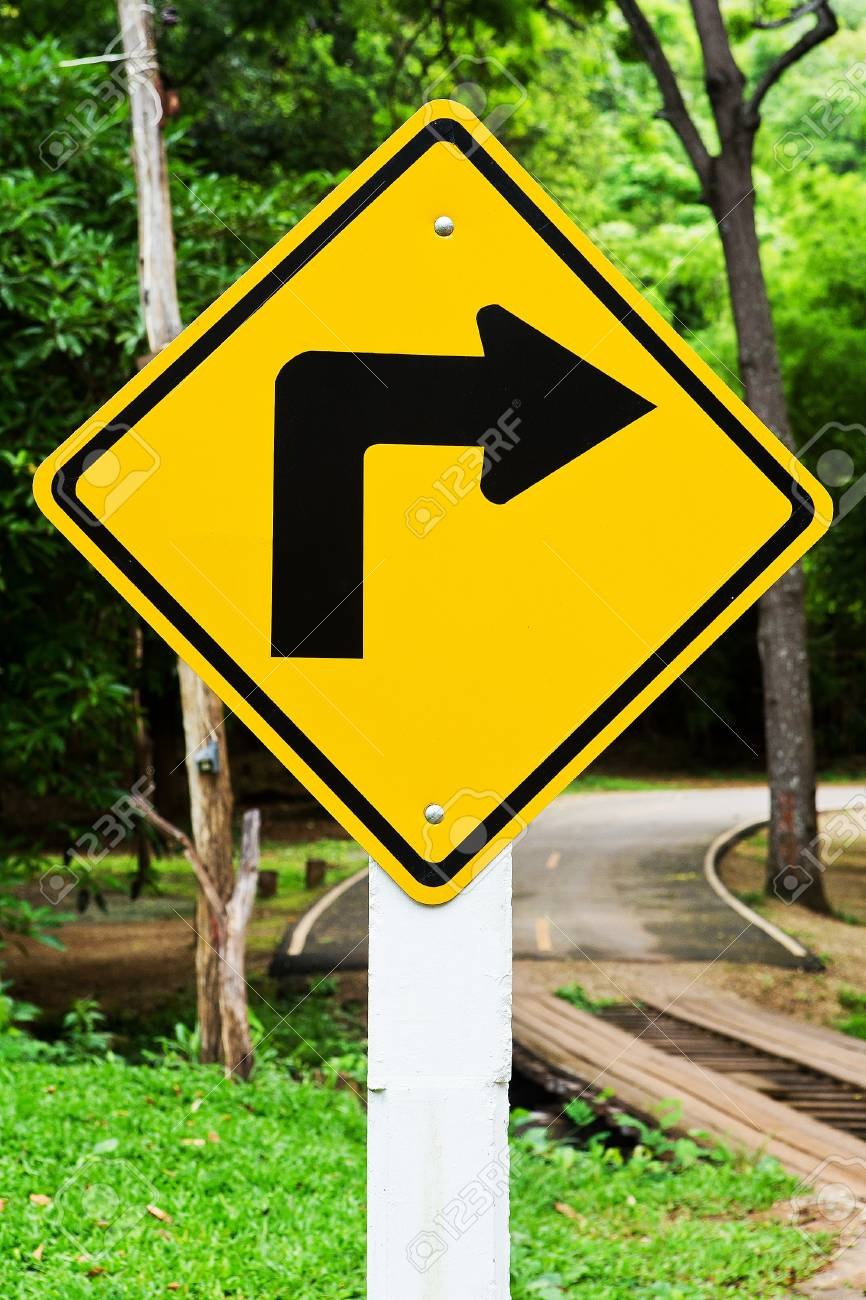right: (25, 95, 840, 915)
